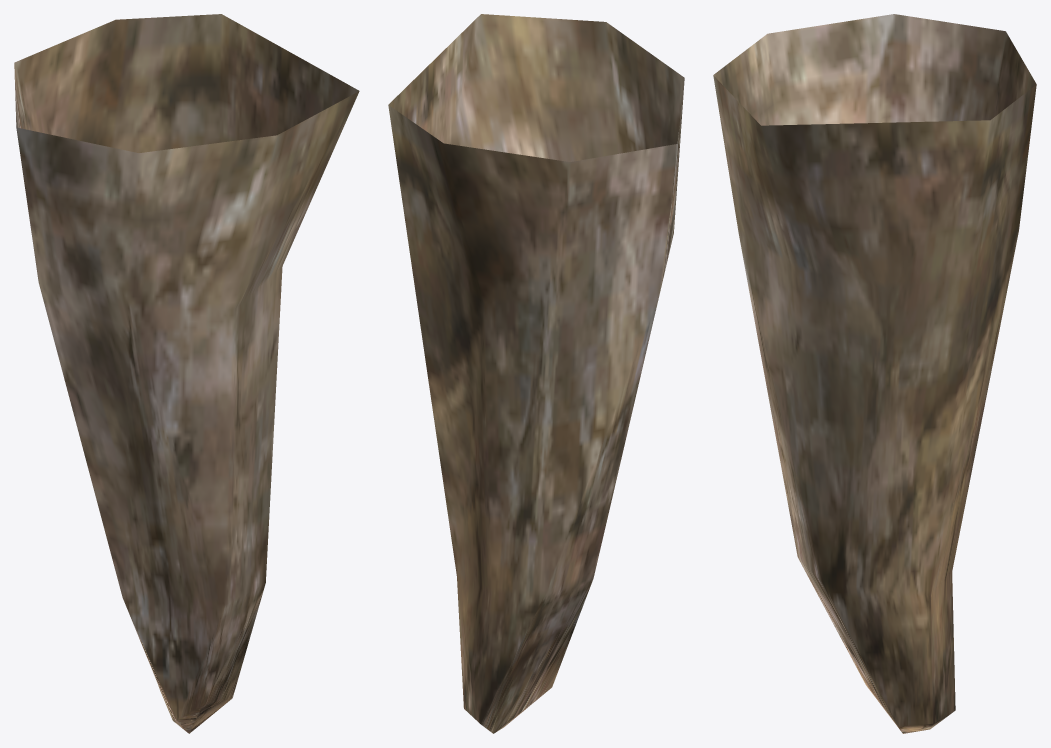
File: thm_tato_cave_stalactite_sml_l1.fbx
3 views of the same model, side by side, from view 1: azimuth 30°, elevation 25°; view 2: azimuth 150°, elevation 25°; view 3: azimuth 270°, elevation 25° (orthographic). The views are drawn at different scales.
Parts seen in each view (by area): view 1: mesh_node; view 2: mesh_node; view 3: mesh_node.
Boxes of the visible parts, box(x1,y1,x2,y2) form: mesh_node: box(14, 14, 359, 733); mesh_node: box(388, 14, 684, 733); mesh_node: box(713, 14, 1036, 733).
Size of the model in its own units: 1.03 by 2.4 by 1.08.
